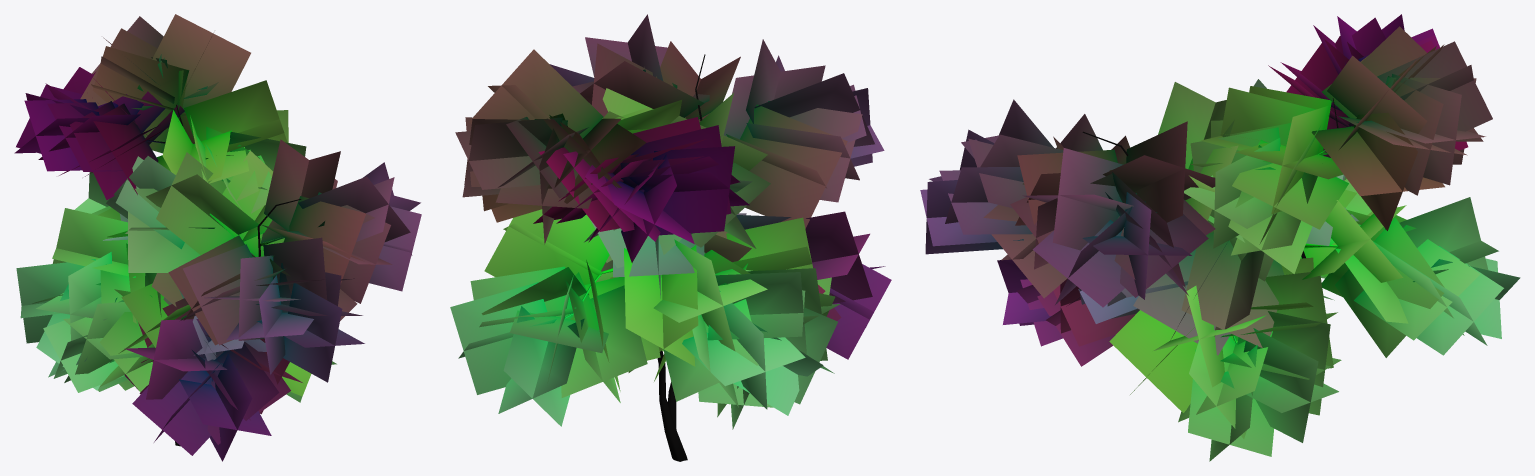
The model's file is M_P14_Tree_6.fbx.
3 renders of one model, left to right at view 1: azimuth 30°, elevation 25°; view 2: azimuth 150°, elevation 25°; view 3: azimuth 270°, elevation 25°, orthographic. The views are drawn at different scales.
Parts seen in each view (by area): view 1: Tree_6; view 2: Tree_6; view 3: Tree_6.
Part boxes in pixels (box(x1,y1,x2,y2)): Tree_6: box(14, 14, 421, 461); Tree_6: box(450, 14, 891, 461); Tree_6: box(920, 14, 1520, 461).
Bounding box in the file's own units: 399 × 445 × 567.
